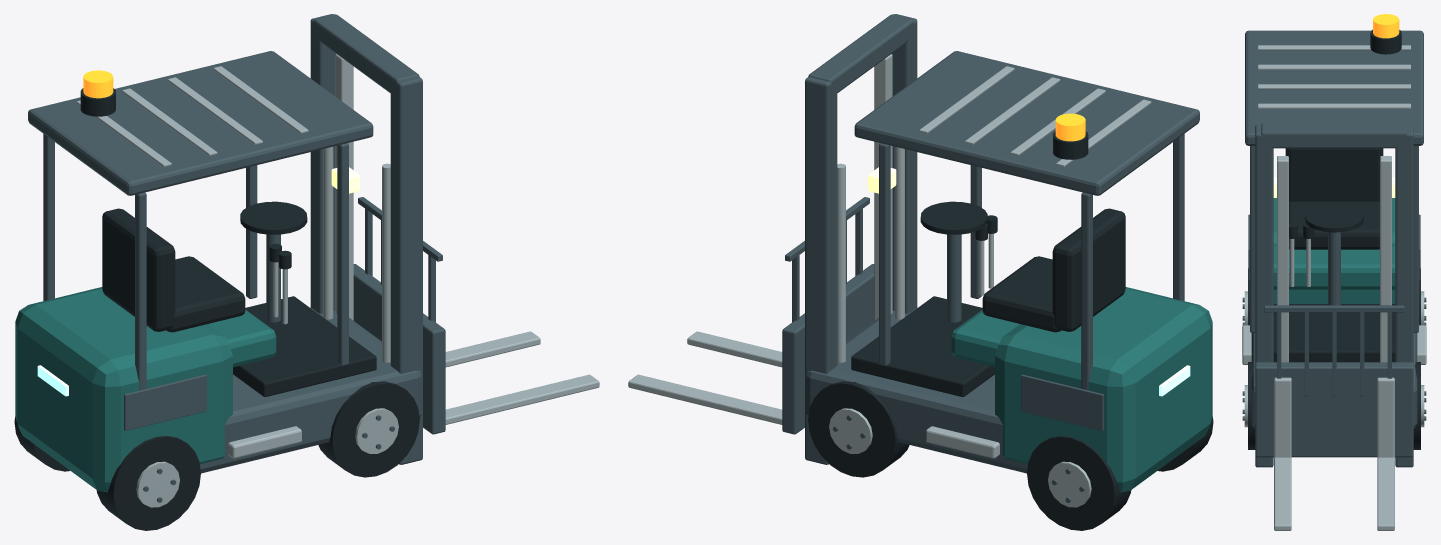
The model's file is forklift.glb.
The picture shows the model from 3 angles, left to right: view 1: azimuth 30°, elevation 25°; view 2: azimuth 150°, elevation 25°; view 3: azimuth 270°, elevation 25°; orthographic projection. The views are drawn at different scales.
Visible parts, largest first — view 1: forklift_Forklift_Root_WH_slate, forklift_Forklift_Root_WH_teal, forklift_Forklift_Root_WH_dark, forklift_Forklift_Root_WH_alloy, forklift_Fork_Carriage_WH_slate, forklift_Wheel_RR_WH_dark, forklift_Wheel_FR_WH_dark, forklift_Fork_Carriage_WH_alloy, forklift_Mast_Lift_WH_alloy, forklift_Wheel_RR_WH_alloy, forklift_Wheel_FR_WH_alloy, forklift_Forklift_Root_WH_beacon; view 2: forklift_Forklift_Root_WH_slate, forklift_Forklift_Root_WH_teal, forklift_Forklift_Root_WH_dark, forklift_Forklift_Root_WH_alloy, forklift_Fork_Carriage_WH_slate, forklift_Wheel_RL_WH_dark, forklift_Wheel_FL_WH_dark, forklift_Fork_Carriage_WH_alloy, forklift_Mast_Lift_WH_alloy, forklift_Wheel_RL_WH_alloy, forklift_Wheel_FL_WH_alloy, forklift_Forklift_Root_WH_beacon; view 3: forklift_Forklift_Root_WH_slate, forklift_Fork_Carriage_WH_slate, forklift_Forklift_Root_WH_dark, forklift_Fork_Carriage_WH_alloy, forklift_Forklift_Root_WH_teal, forklift_Forklift_Root_WH_alloy, forklift_Mast_Lift_WH_alloy, forklift_Forklift_Root_WH_beacon, forklift_Wheel_FL_WH_dark, forklift_Wheel_FR_WH_dark.
Part boxes in pixels (x1,y1,x2,y2): forklift_Forklift_Root_WH_slate: (28, 14, 422, 473); forklift_Forklift_Root_WH_teal: (15, 287, 276, 492); forklift_Forklift_Root_WH_dark: (80, 88, 376, 396); forklift_Forklift_Root_WH_alloy: (76, 66, 390, 458); forklift_Fork_Carriage_WH_slate: (353, 197, 445, 434); forklift_Wheel_RR_WH_dark: (96, 436, 200, 530); forklift_Wheel_FR_WH_dark: (318, 381, 419, 477); forklift_Fork_Carriage_WH_alloy: (445, 331, 599, 424); forklift_Mast_Lift_WH_alloy: (335, 54, 353, 320); forklift_Wheel_RR_WH_alloy: (136, 461, 179, 507); forklift_Wheel_FR_WH_alloy: (355, 408, 398, 453); forklift_Forklift_Root_WH_beacon: (83, 70, 113, 98); forklift_Forklift_Root_WH_slate: (805, 14, 1199, 473); forklift_Forklift_Root_WH_teal: (951, 287, 1212, 492); forklift_Forklift_Root_WH_dark: (851, 131, 1125, 396); forklift_Forklift_Root_WH_alloy: (837, 66, 1151, 458); forklift_Fork_Carriage_WH_slate: (782, 197, 874, 434); forklift_Wheel_RL_WH_dark: (1027, 436, 1131, 530); forklift_Wheel_FL_WH_dark: (808, 381, 909, 477); forklift_Fork_Carriage_WH_alloy: (628, 331, 782, 424); forklift_Mast_Lift_WH_alloy: (874, 54, 892, 320); forklift_Wheel_RL_WH_alloy: (1048, 461, 1091, 507); forklift_Wheel_FL_WH_alloy: (829, 408, 872, 453); forklift_Forklift_Root_WH_beacon: (1055, 113, 1085, 141); forklift_Forklift_Root_WH_slate: (1245, 30, 1423, 467); forklift_Fork_Carriage_WH_slate: (1255, 305, 1413, 457); forklift_Forklift_Root_WH_dark: (1273, 29, 1401, 362); forklift_Fork_Carriage_WH_alloy: (1274, 377, 1394, 530); forklift_Forklift_Root_WH_teal: (1273, 198, 1395, 303); forklift_Forklift_Root_WH_alloy: (1242, 45, 1426, 364); forklift_Mast_Lift_WH_alloy: (1277, 156, 1391, 362); forklift_Forklift_Root_WH_beacon: (1373, 14, 1399, 38); forklift_Wheel_FL_WH_dark: (1413, 362, 1420, 449); forklift_Wheel_FR_WH_dark: (1248, 362, 1255, 449).
Bounding box in the file's own units: 2.82 × 2.05 × 1.
